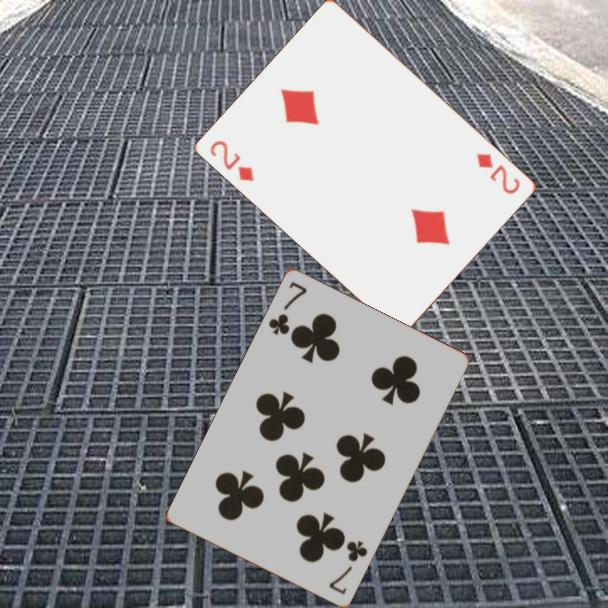c07: (325, 537, 371, 598), (265, 278, 310, 338)
d02: (473, 150, 524, 197), (206, 137, 257, 184)
